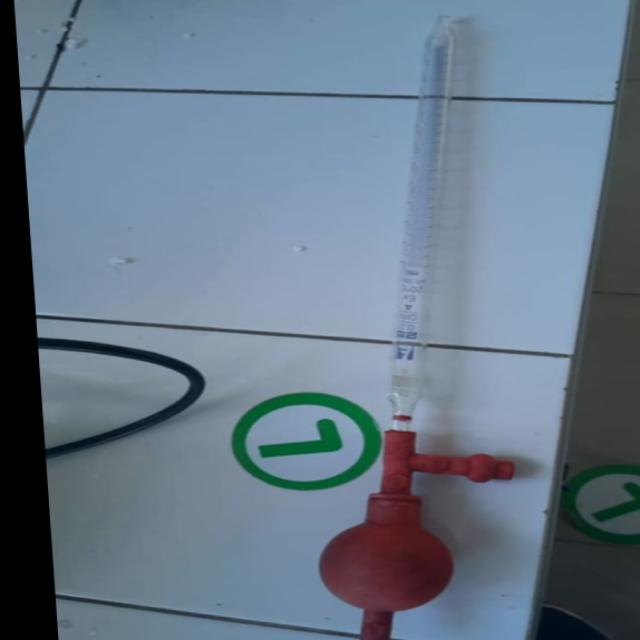Droppers: (265, 27, 538, 640)
